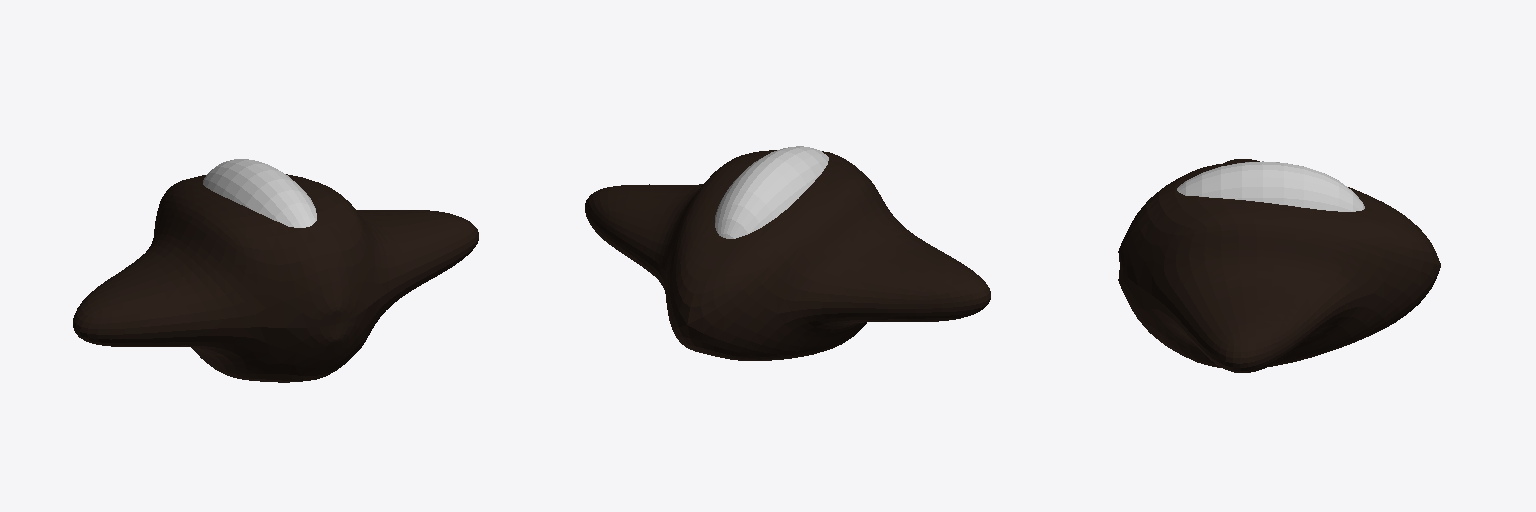
The model's file is ship.obj.
The picture shows the model from 3 angles: view 1: azimuth 30°, elevation 25°; view 2: azimuth 150°, elevation 25°; view 3: azimuth 270°, elevation 25°; orthographic projection.
Parts seen in each view (by area): view 1: Cube_Cube.001; view 2: Cube_Cube.001; view 3: Cube_Cube.001.
Part boxes in pixels (bbox=[...]): Cube_Cube.001: bbox=[73, 159, 478, 382]; Cube_Cube.001: bbox=[585, 146, 990, 360]; Cube_Cube.001: bbox=[1118, 159, 1440, 372].
Bounding box in the file's own units: 5.78 × 2.52 × 4.03.